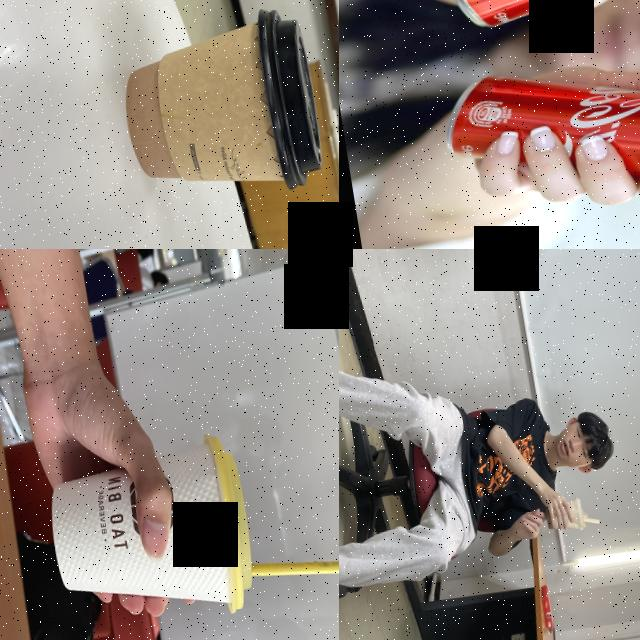can: (435, 31, 640, 231)
cup: (35, 421, 265, 640), (110, 0, 327, 215), (544, 495, 587, 536)
